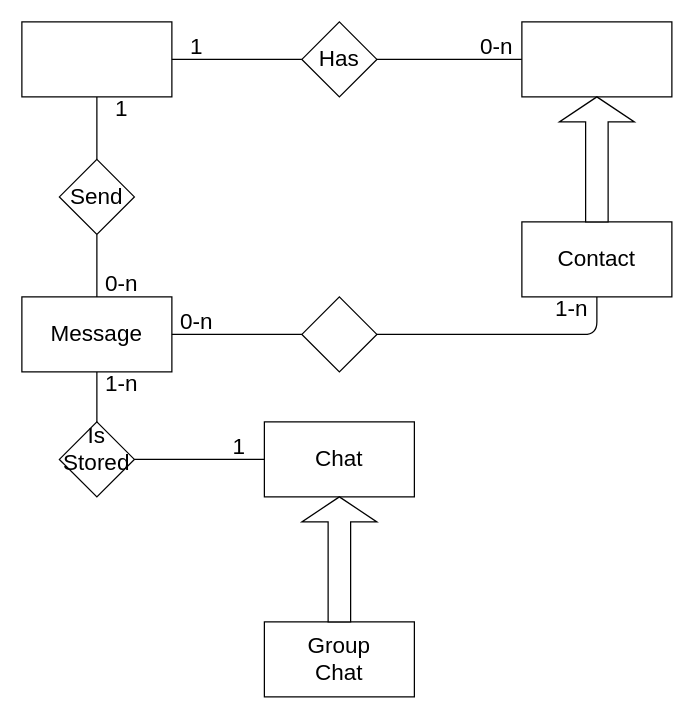
This 694x719 diagram has some shape labels left out. Here are the shapes that lost their labels. From the top down, the centre of each, then its label:
At point (96, 59): "User".
At point (596, 59): "Friend".
At point (339, 334): "Is Sent".
